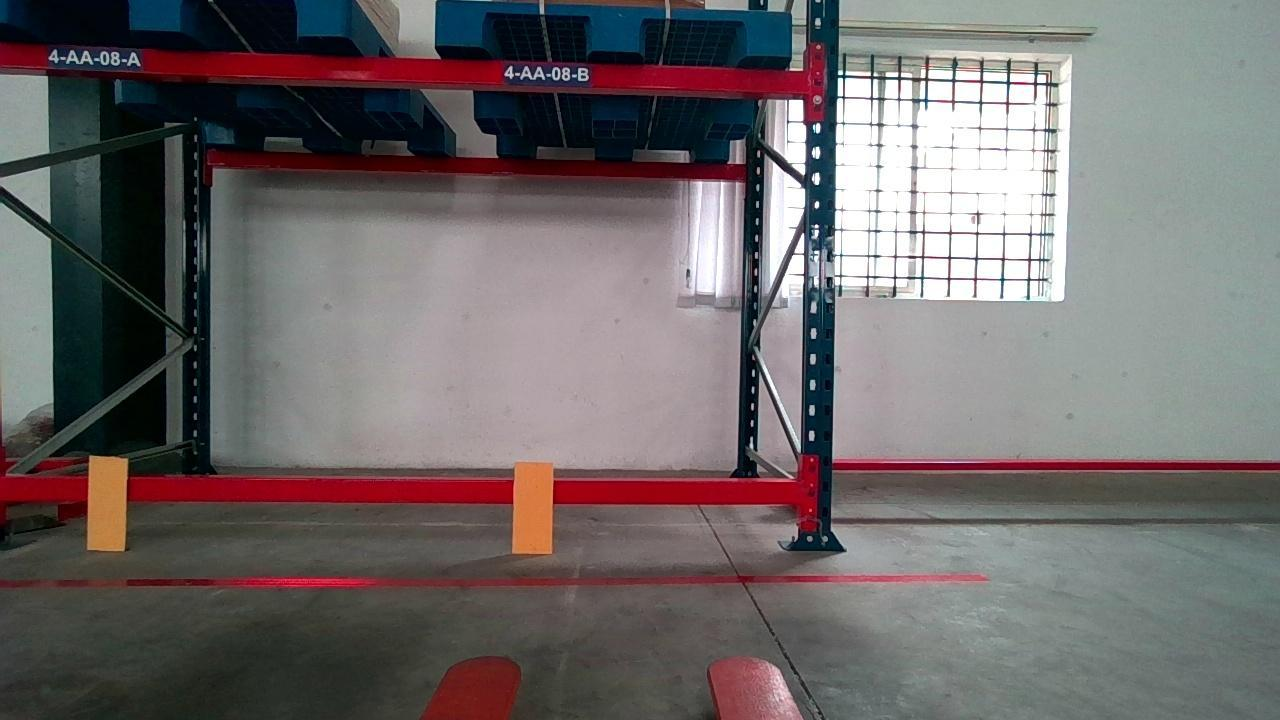h_rack: (2, 44, 804, 95), (2, 475, 801, 504)
orange_strip: (511, 459, 556, 554), (87, 455, 131, 549)
red_line: (1, 569, 994, 588)
small_pallet: (437, 0, 789, 53), (0, 1, 344, 36)
